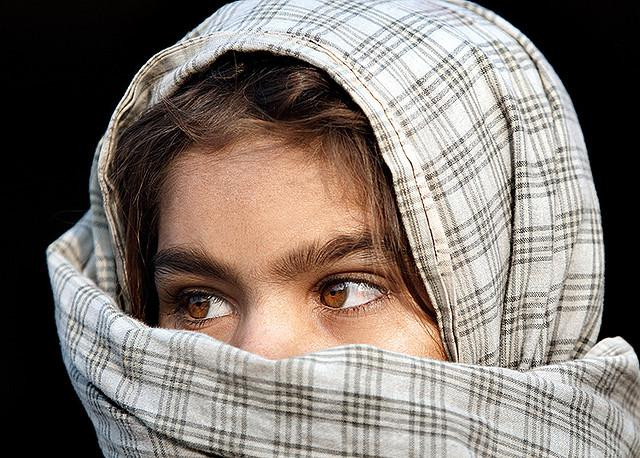OK: (143, 218, 433, 458)
